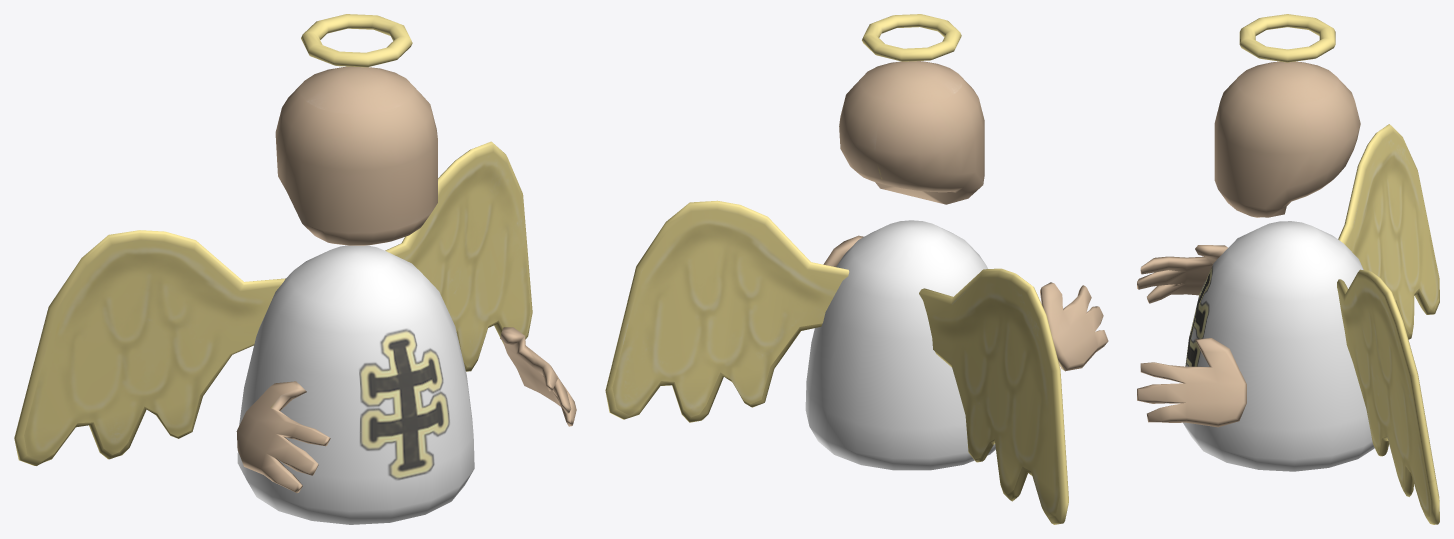
Rendered from Angel.fbx.
3 views of the same model, side by side, from view 1: azimuth 30°, elevation 25°; view 2: azimuth 150°, elevation 25°; view 3: azimuth 270°, elevation 25° (orthographic). The views are drawn at different scales.
Visible parts, largest first — view 1: Aile_ange, Body, head, polySurface3, pTorus2, polySurface2; view 2: Aile_ange, Body, head, polySurface3, pTorus2; view 3: Body, Aile_ange, head, polySurface2, polySurface3, pTorus2.
Part boxes in pixels (<box>): Aile_ange: <box>14,141,532,465</box>; Body: <box>237,245,474,524</box>; head: <box>275,66,437,245</box>; polySurface3: <box>236,381,330,492</box>; pTorus2: <box>301,14,412,67</box>; polySurface2: <box>500,327,576,426</box>; Aile_ange: <box>605,200,1068,524</box>; Body: <box>805,220,995,470</box>; head: <box>839,61,984,204</box>; polySurface3: <box>1040,282,1108,371</box>; pTorus2: <box>862,14,961,61</box>; Body: <box>1183,221,1374,471</box>; Aile_ange: <box>1337,124,1439,524</box>; head: <box>1214,61,1360,217</box>; polySurface2: <box>1137,338,1246,427</box>; polySurface3: <box>1137,245,1227,303</box>; pTorus2: <box>1239,14,1335,62</box>.
Bounding box in the file's own units: 628 × 524 × 356.
1 material, 1 textured.
